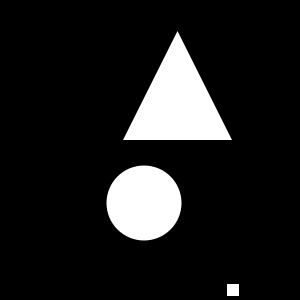circle: (227, 284, 239, 296)
rectangle: (106, 166, 182, 240)
triangle: (123, 31, 232, 140)
